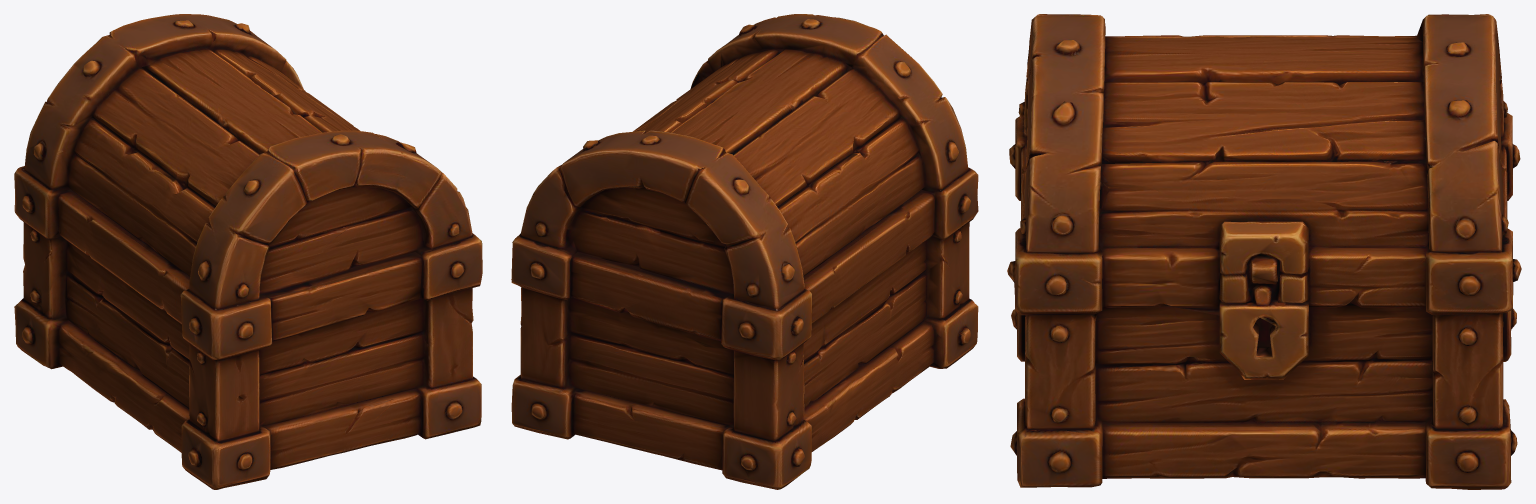
The model's file is chest.glb.
The picture shows the model from 3 angles, left to right: view 1: azimuth 30°, elevation 25°; view 2: azimuth 150°, elevation 25°; view 3: azimuth 270°, elevation 25°; orthographic projection. The views are drawn at different scales.
Visible parts, largest first — view 1: tripo_node_cabf468f-a476-4a7f-a8c8-cf33cb705d9f; view 2: tripo_node_cabf468f-a476-4a7f-a8c8-cf33cb705d9f; view 3: tripo_node_cabf468f-a476-4a7f-a8c8-cf33cb705d9f.
Boxes of the visible parts, x1,y1,x2,y2 form: tripo_node_cabf468f-a476-4a7f-a8c8-cf33cb705d9f: [14, 14, 482, 489]; tripo_node_cabf468f-a476-4a7f-a8c8-cf33cb705d9f: [511, 14, 978, 489]; tripo_node_cabf468f-a476-4a7f-a8c8-cf33cb705d9f: [1007, 14, 1521, 489].
Size of the model in its own units: 0.7766 by 0.8073 by 1.
1 material, 1 textured.
